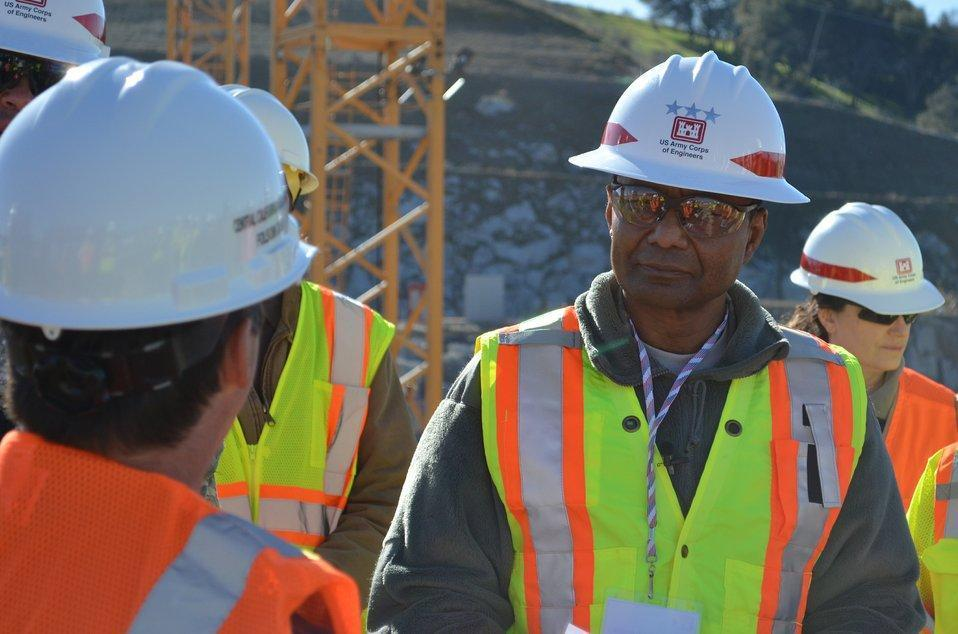vest: (463, 312, 886, 628), (167, 246, 404, 562), (748, 328, 957, 604)
